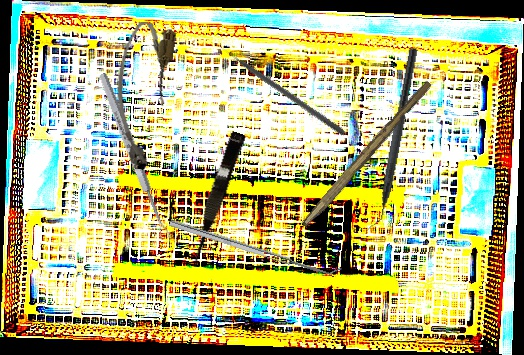Cannula: (104, 19, 178, 172)
Chopper: (364, 45, 418, 236)
Micro Scissor: (183, 129, 247, 269)
Pusher: (215, 41, 348, 137)
Scalpel Handle: (300, 77, 434, 232)
Spatula Surgical: (168, 213, 343, 281)
Surgical Spoon: (96, 71, 172, 242)
